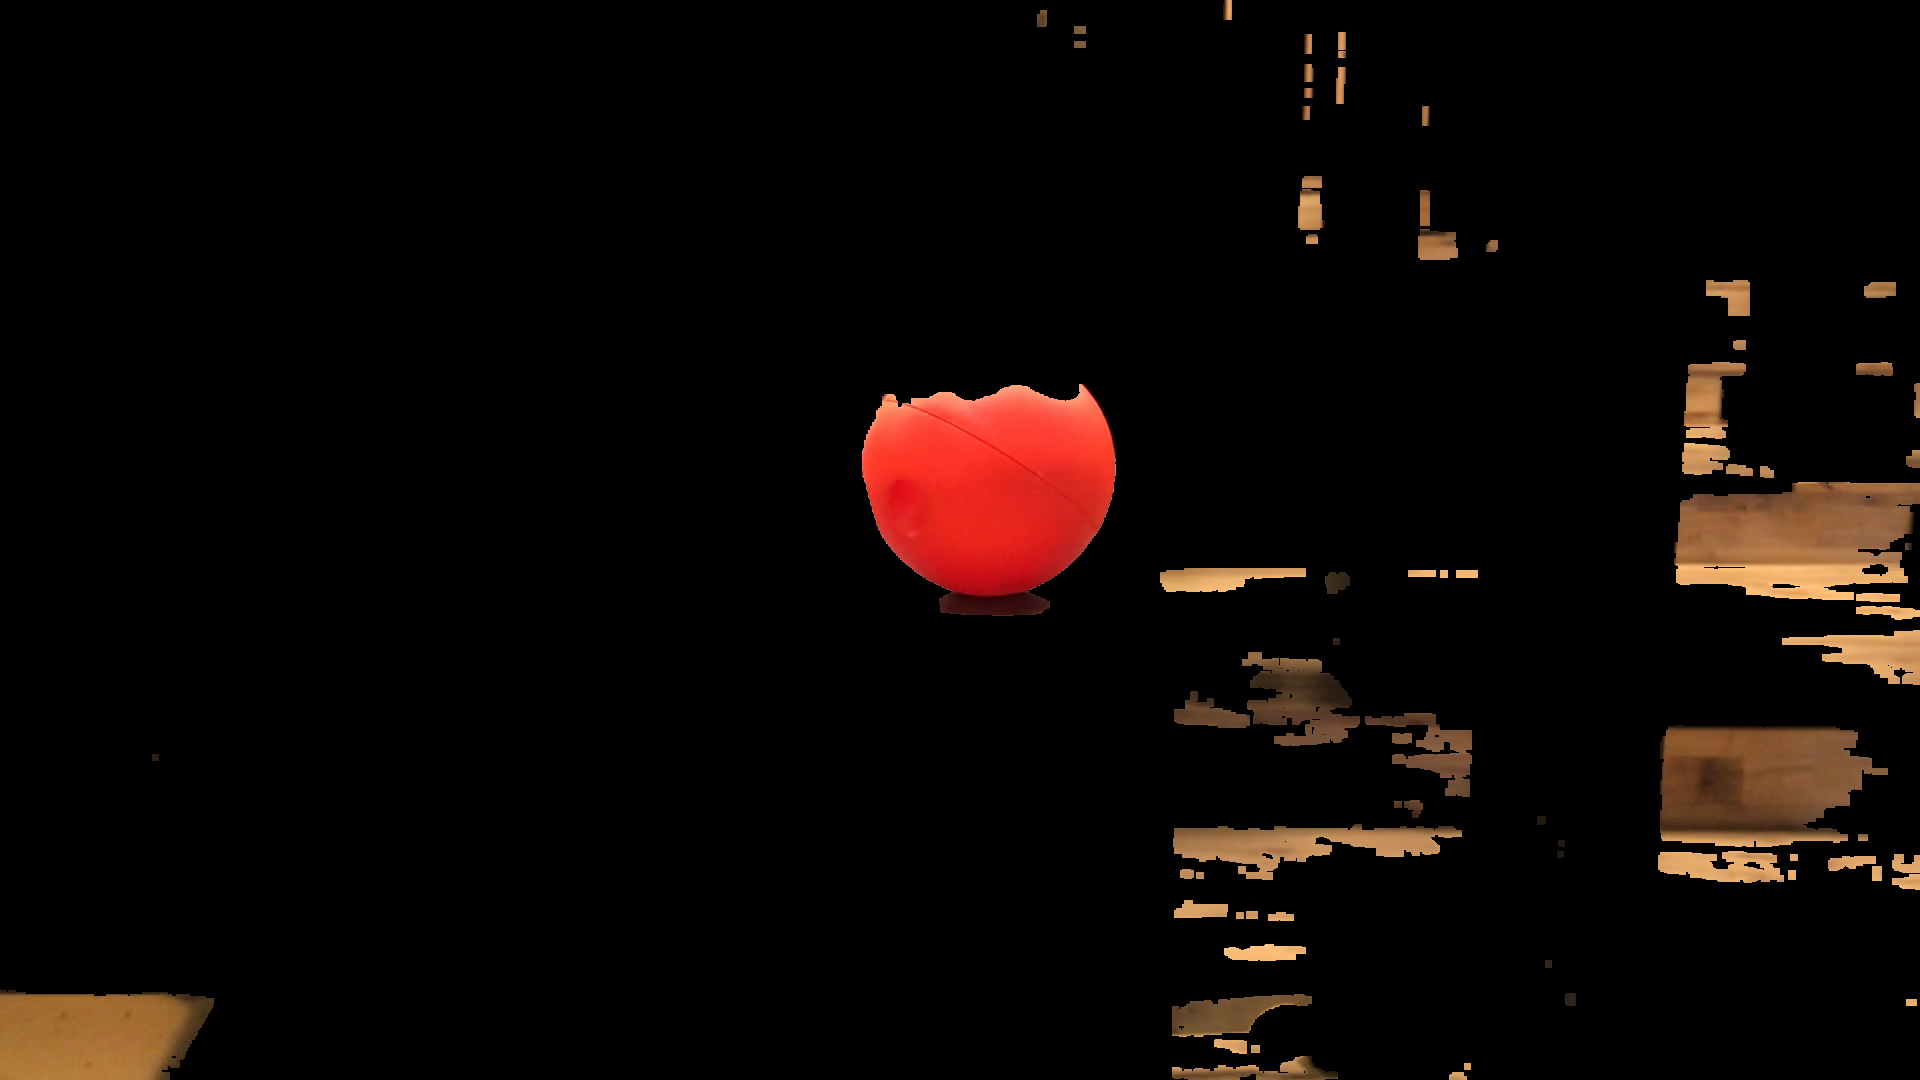Ball: (857, 342, 1116, 596)
